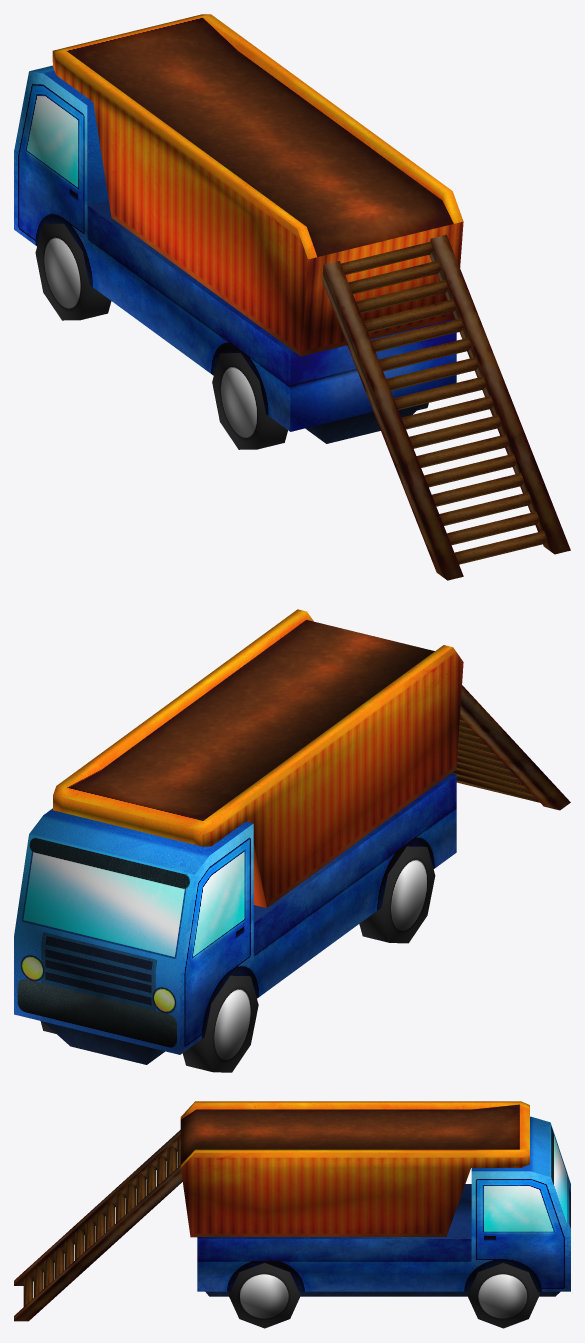
File: GravelTrucks.FBX
3 renders of one model, top to bottom at view 1: azimuth 30°, elevation 25°; view 2: azimuth 150°, elevation 25°; view 3: azimuth 270°, elevation 25°, orthographic. The views are drawn at different scales.
Visible parts, largest first — view 1: GravelTrucks, Ladder; view 2: GravelTrucks, Ladder; view 3: GravelTrucks, Ladder.
Part boxes in pixels (x1=…): GravelTrucks: x1=14, y1=14, x2=463, y2=449; Ladder: x1=322, y1=234, x2=570, y2=580; GravelTrucks: x1=14, y1=609, x2=463, y2=1072; Ladder: x1=452, y1=685, x2=570, y2=810; GravelTrucks: x1=180, y1=1101, x2=570, y2=1328; Ladder: x1=14, y1=1130, x2=182, y2=1321.
Bounding box in the file's own units: 9.52 × 13.78 × 39.99.
